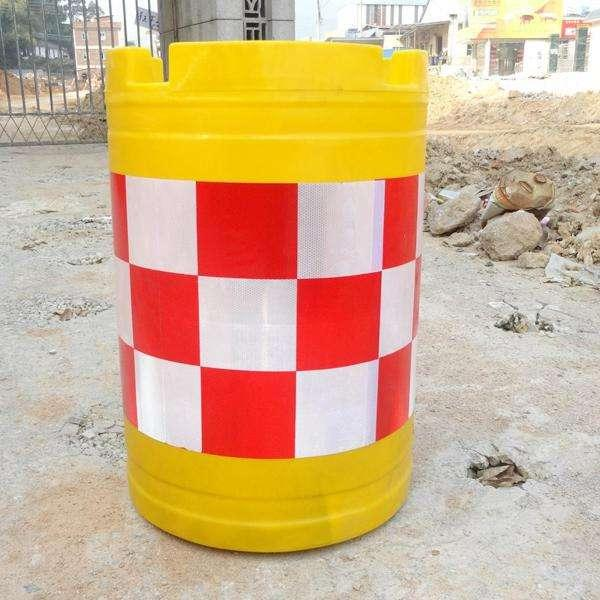sign: (84, 27, 429, 559)
